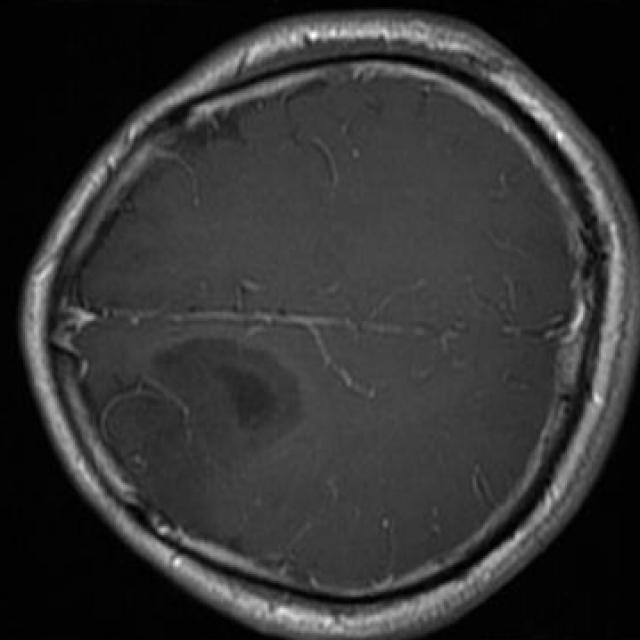glioma: (100, 339, 301, 519)
